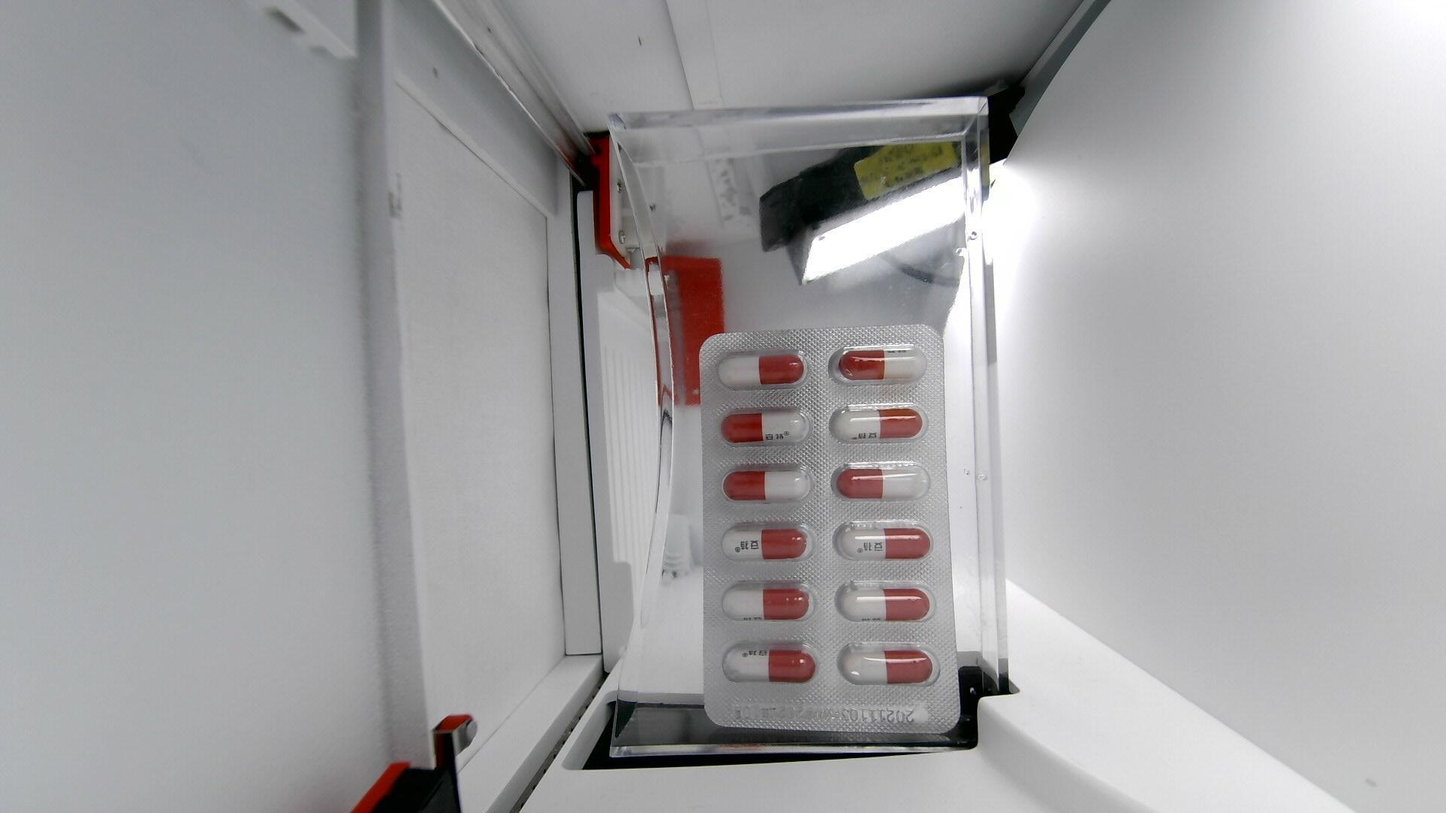Light Front: (702, 324, 958, 735)
Pill Front: (838, 644, 937, 684), (836, 581, 934, 621), (830, 344, 926, 384), (834, 521, 931, 559), (723, 643, 815, 683), (833, 461, 929, 499), (722, 583, 812, 621), (831, 403, 923, 440), (721, 409, 809, 446), (719, 350, 804, 388), (723, 524, 812, 560), (723, 465, 810, 501)
